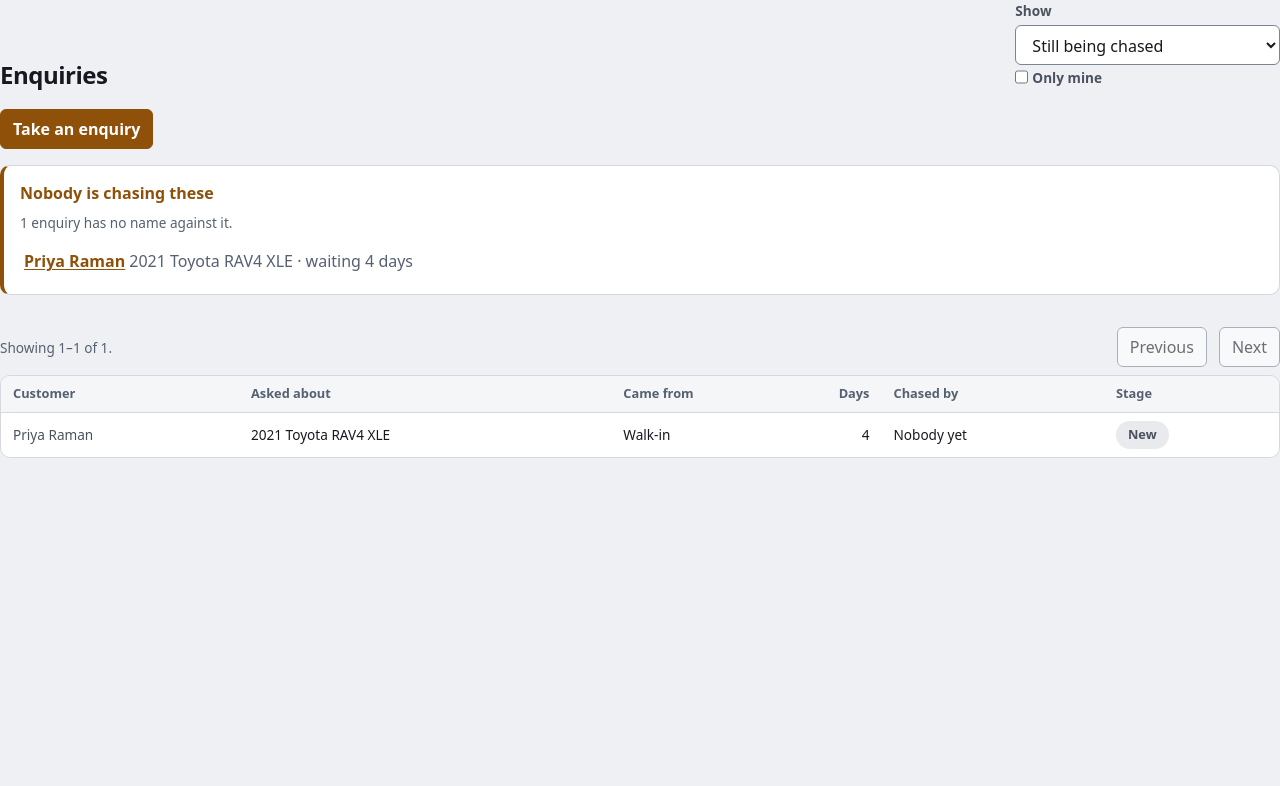
it: one enquiry › shows the server’s refusal rather than predicting it
Expected: the table is shown, [1,376,1279,457]
Click the button "Priya Raman" in the row of "Walk-in".
click(120, 435)  # box [13,423,227,447]
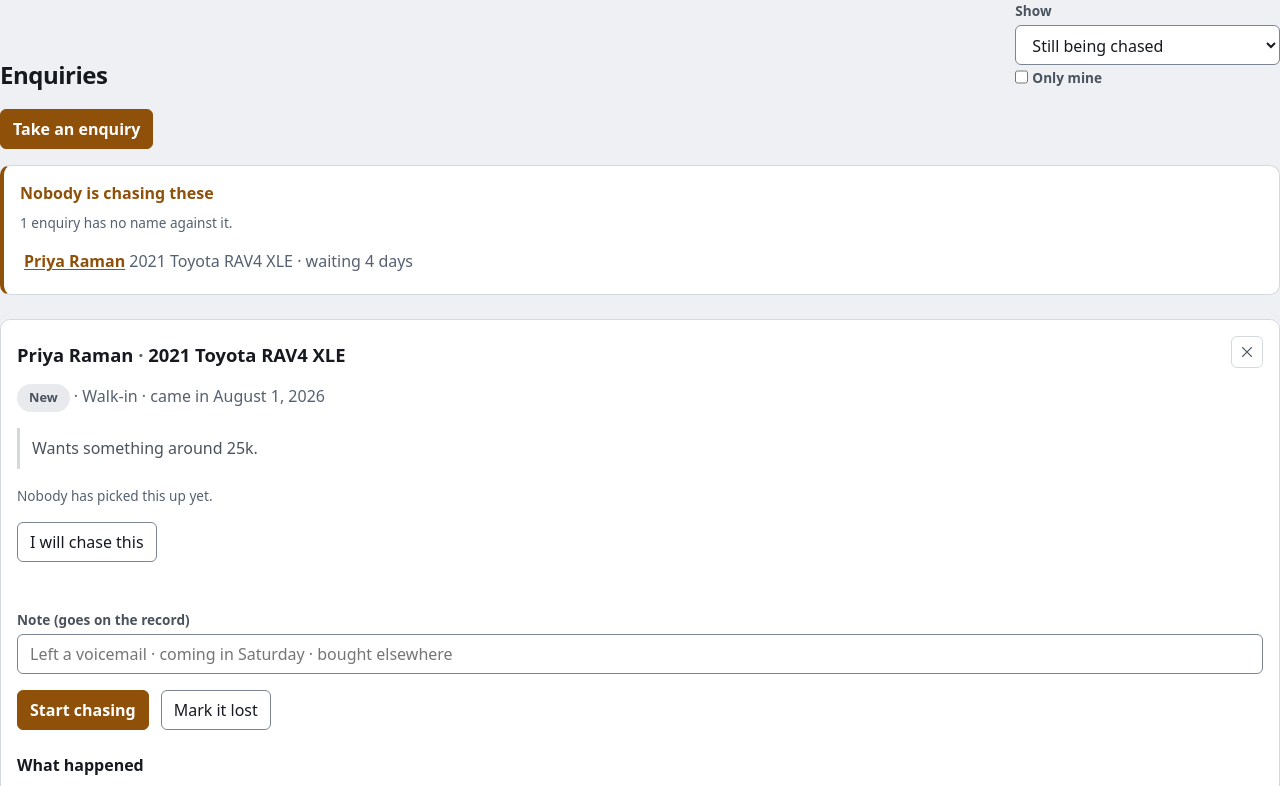
Click the button "Start chasing".
click(83, 710)  # box [17,690,149,730]
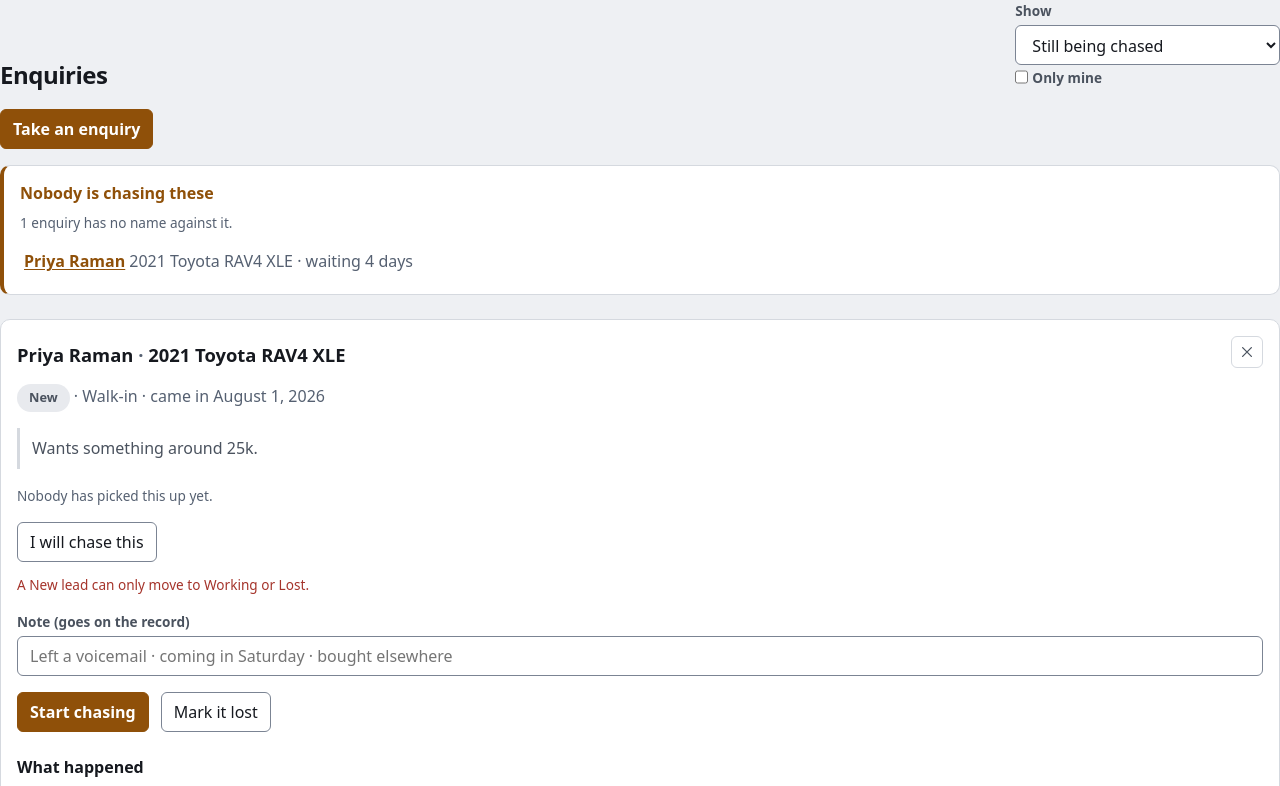
Expected: the text "A New lead can only move to Working or Lost." is shown, [17,575,309,594]
